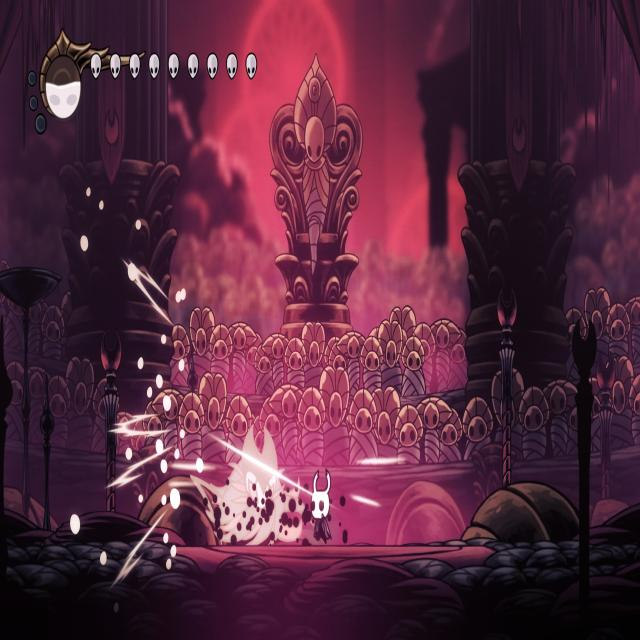Dive Dash: (190, 411, 310, 548)
Player: (309, 469, 335, 548)
